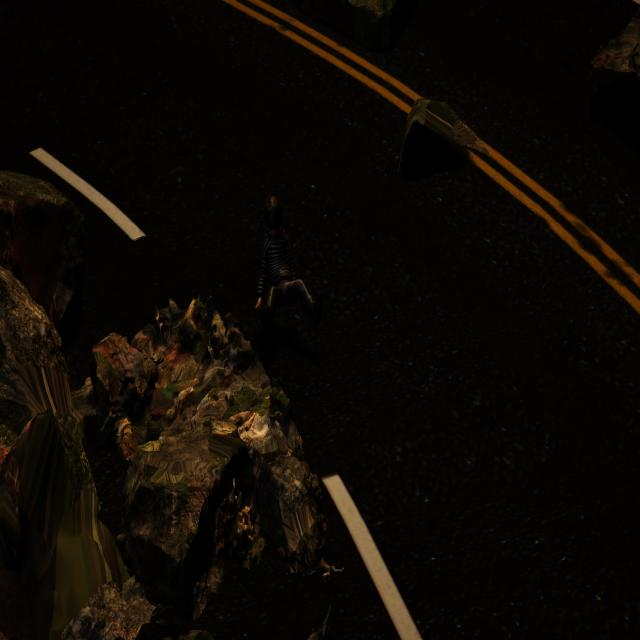Human: (241, 179, 326, 338)
